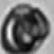correct: (2, 0, 48, 54)
